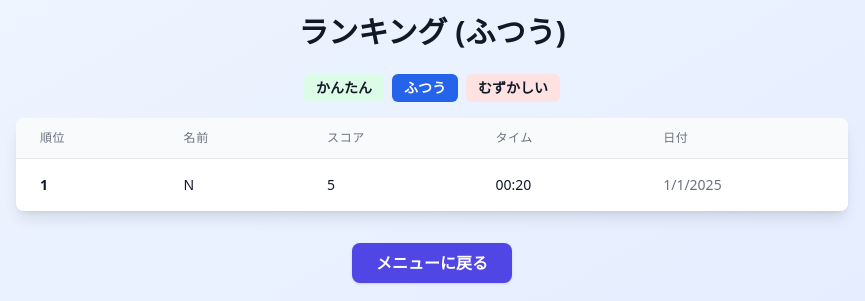
Test: RankingScreen - difficulty tabs › shows initial difficulty list and switches on tab click
This screenshot has width=865, height=301.
Expected: the button "ふつう" is shown, [392, 74, 458, 102]
Expected: the text "N" is shown, [160, 158, 303, 211]
Note: switch to easy
What coordinates should you click on to do the following:
click the button "かんたん"
I would click on:
 (344, 88)
Its box is [304, 74, 384, 102].
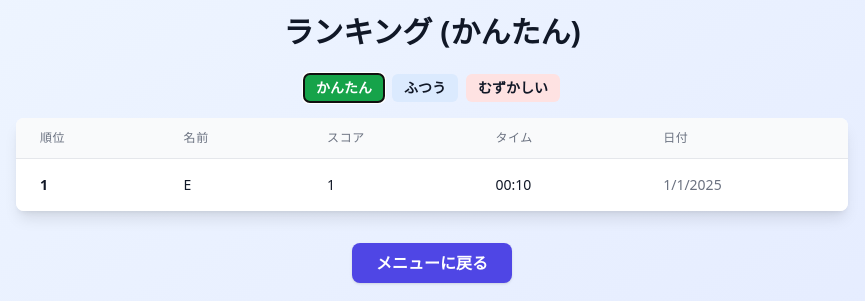
Expected: the text "E" is shown, [160, 158, 303, 211]
Note: switch to hard (empty)
What coordinates should you click on to do the following:
click the button "むずかしい"
I would click on:
 (513, 88)
Its box is [466, 74, 560, 102].
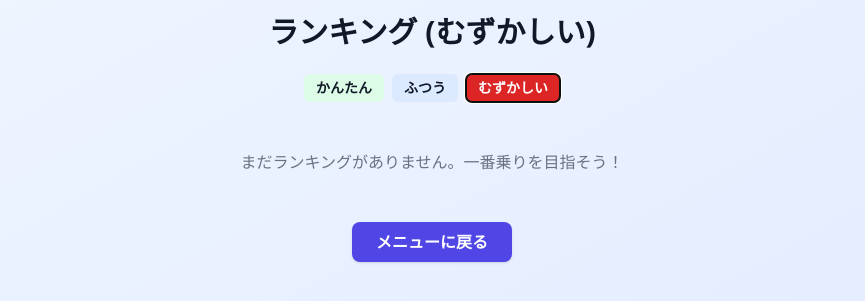
Expected: the text "まだランキングがありません。一番乗りを目指そう！" is shown, [240, 151, 624, 173]
